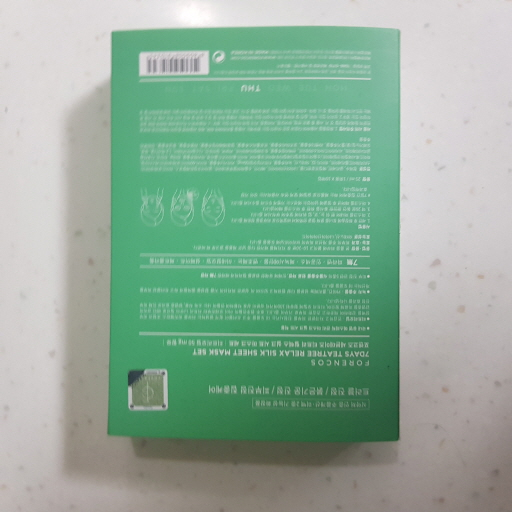Paper_0: (102, 24, 407, 448)
